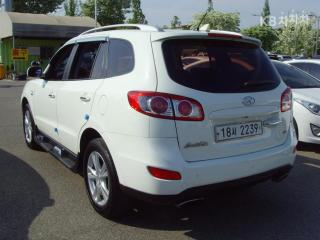1: (219, 127, 226, 138)
2: (239, 124, 245, 136), (245, 124, 250, 135)
3: (250, 123, 254, 134)
8: (226, 126, 231, 137)
9: (254, 123, 259, 133)
서: (232, 126, 237, 136)
